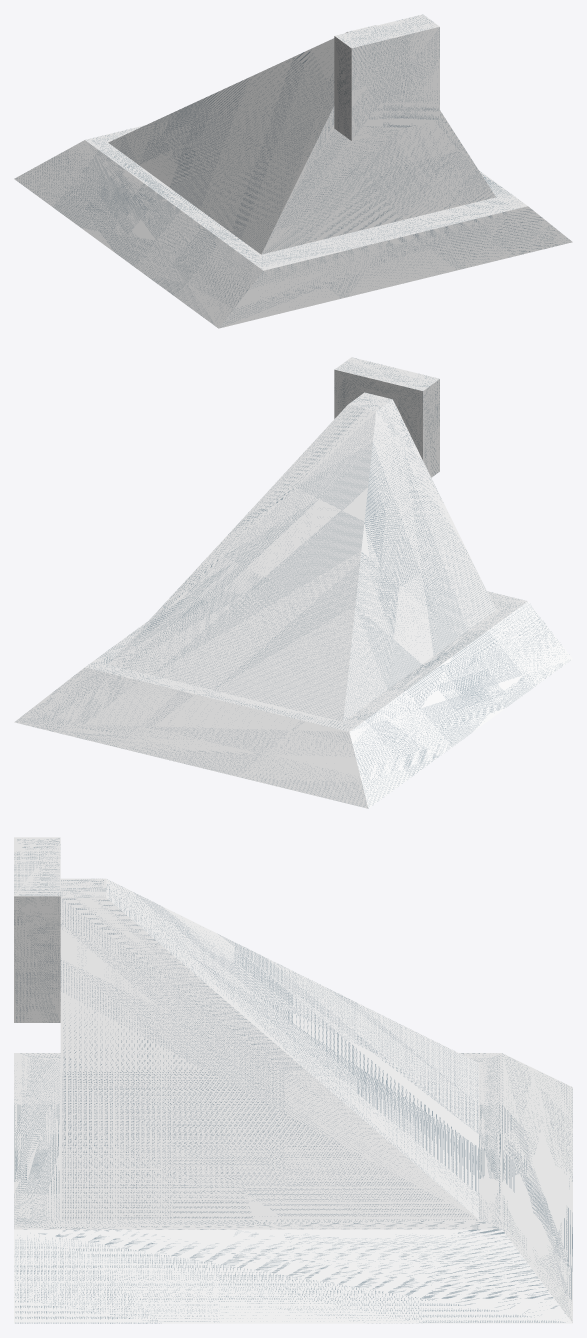
3 renders of one model, top to bottom at view 1: azimuth 30°, elevation 25°; view 2: azimuth 150°, elevation 25°; view 3: azimuth 270°, elevation 25°, orthographic. The views are drawn at different scales.
Visible parts, largest first — view 1: SketchUp (×2); view 2: SketchUp (×2); view 3: SketchUp (×2).
Part boxes in pixels (<box>): SketchUp (×2): <box>14,14,572,328</box>; SketchUp (×2): <box>14,357,572,808</box>; SketchUp (×2): <box>14,837,572,1323</box>.
Size of the model in its own units: 3 by 3 by 2.01.
